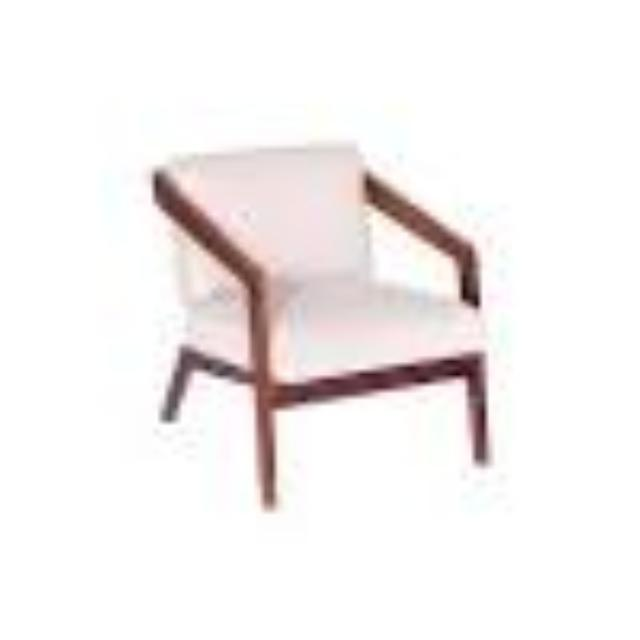obstacle: (104, 65, 590, 547)
